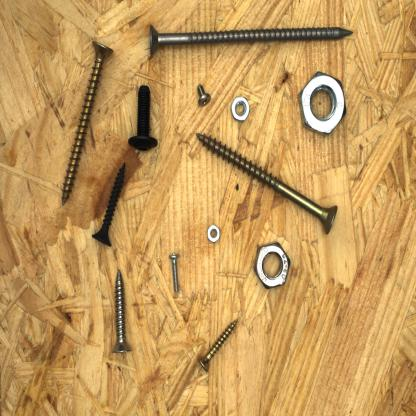screw: (194, 128, 341, 239), (58, 35, 116, 208), (146, 21, 354, 63), (90, 158, 128, 248), (196, 313, 242, 374), (126, 82, 164, 155), (108, 267, 136, 354), (169, 247, 182, 296), (192, 81, 213, 109)
